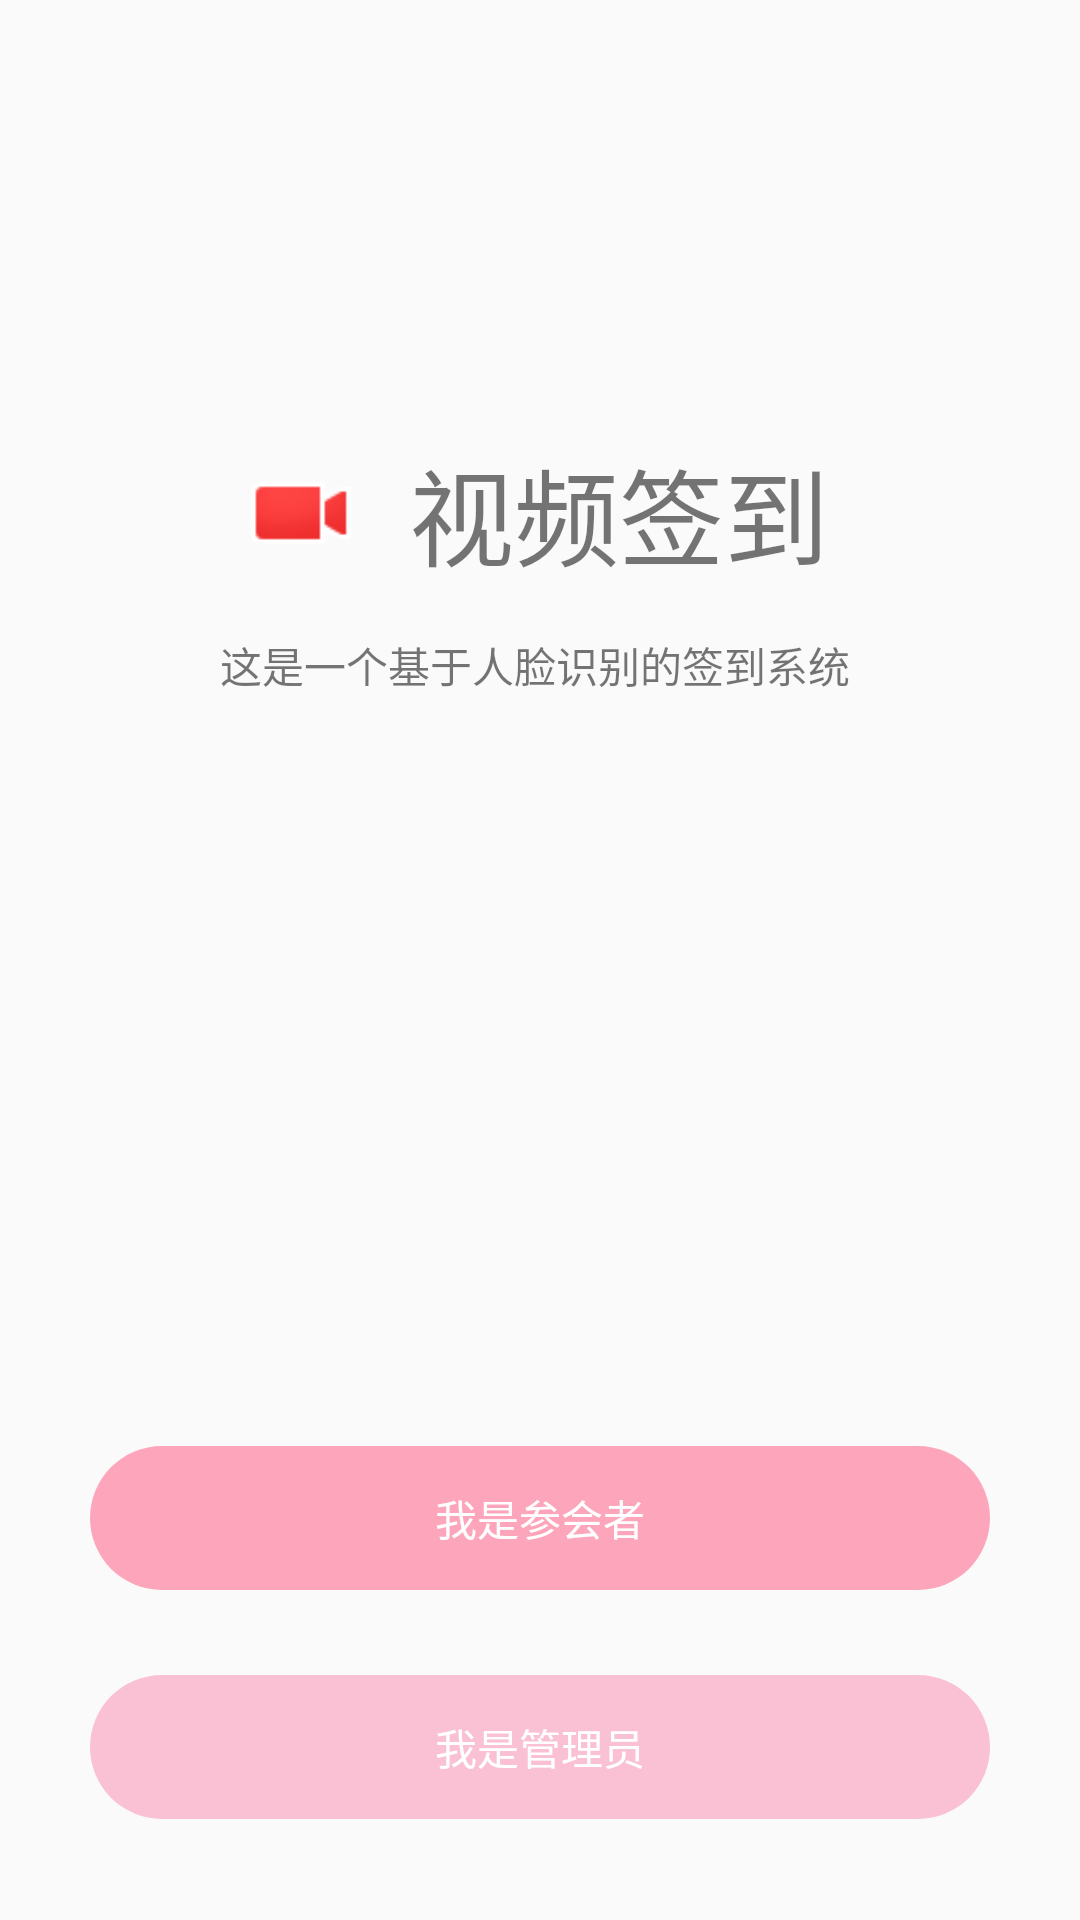

Screen size 1080 × 1920. Icon name, then its center in pixels as (x,y):
presence video busy: (301,513)
